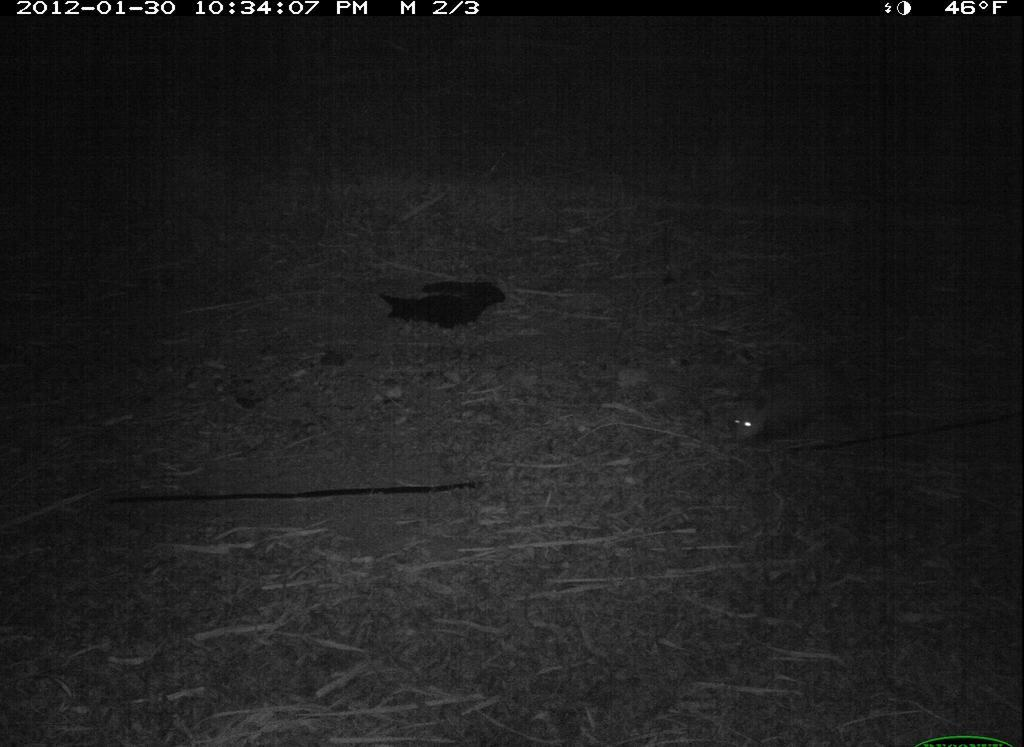opossum: (731, 351, 875, 447)
